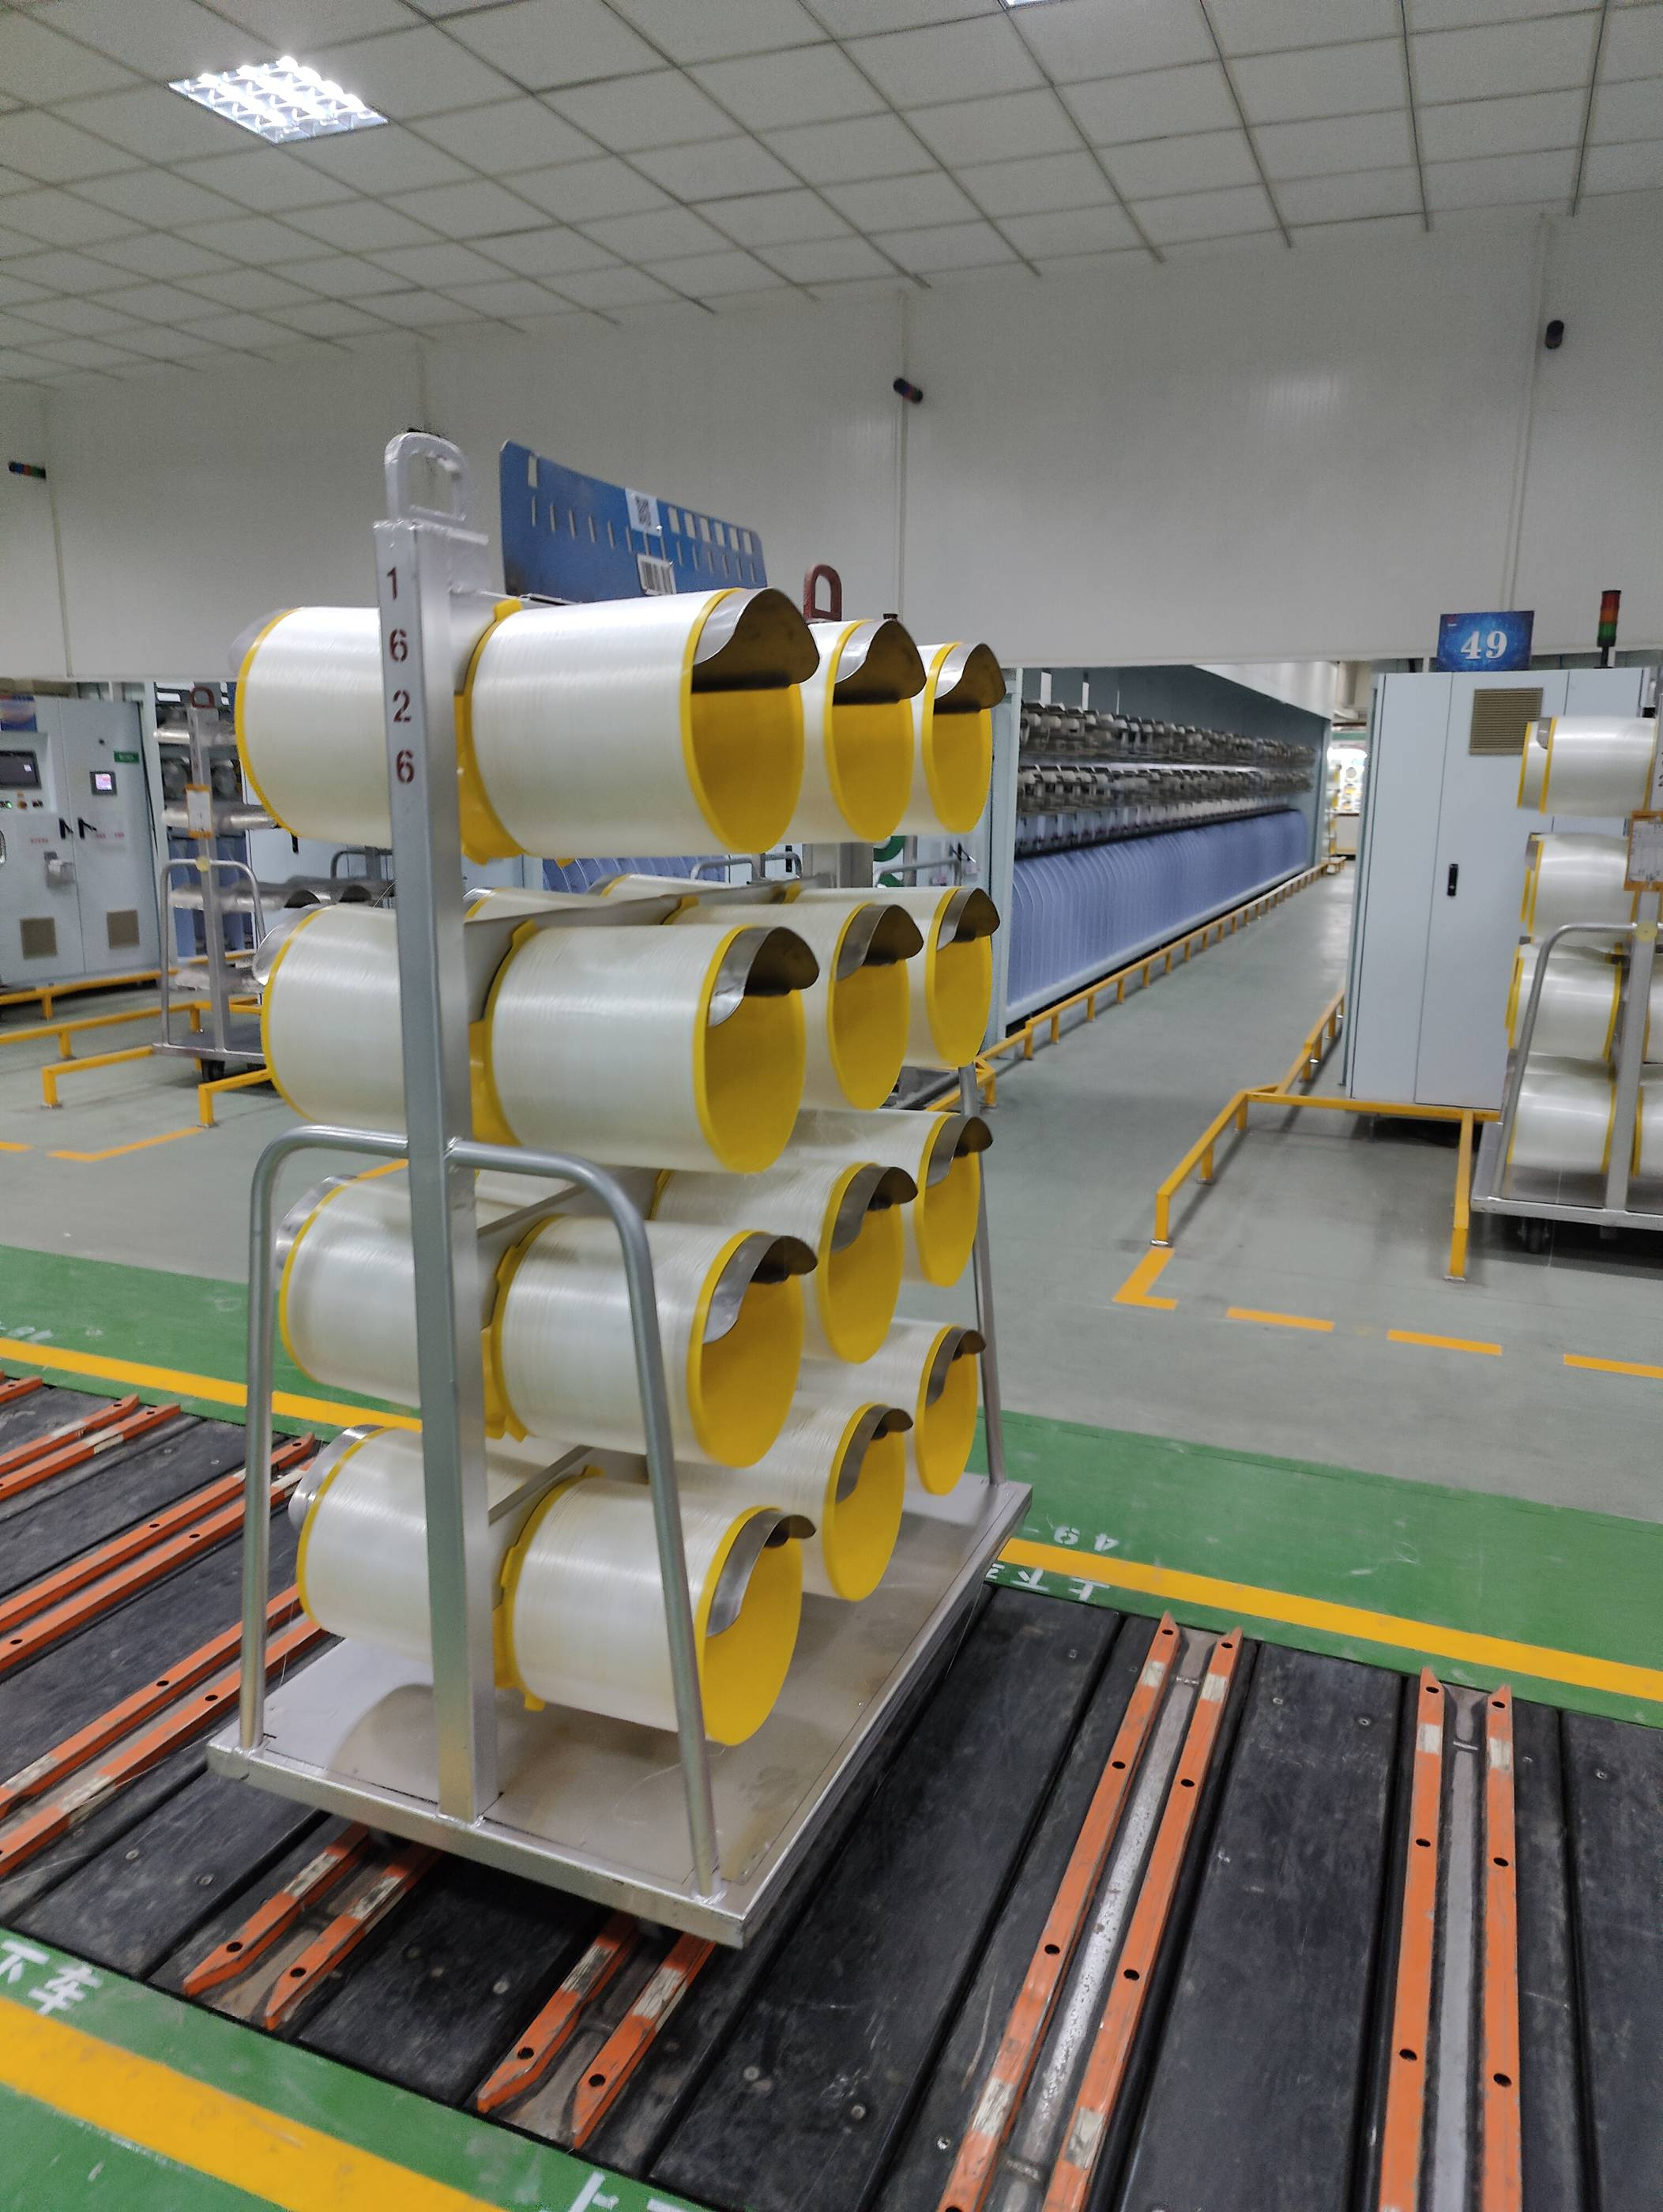b1: (199, 494, 990, 1918)
b2: (1506, 660, 1663, 1246)
